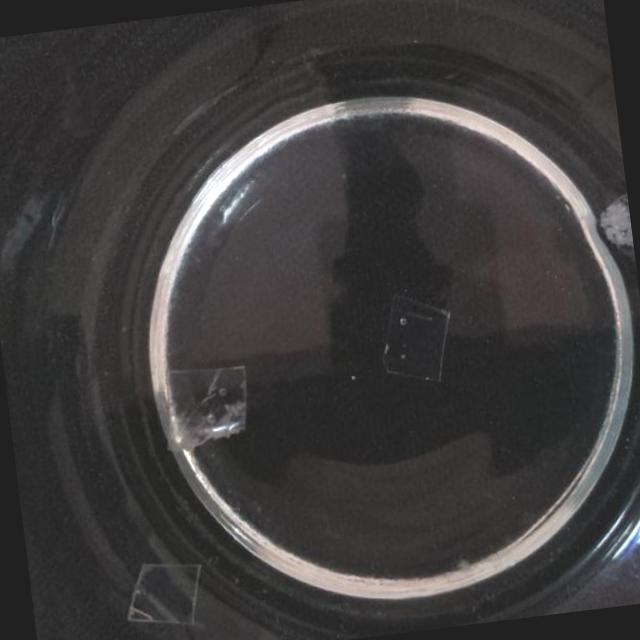fiber: (154, 342, 251, 461), (364, 286, 466, 395), (116, 544, 207, 640), (575, 148, 636, 277)
